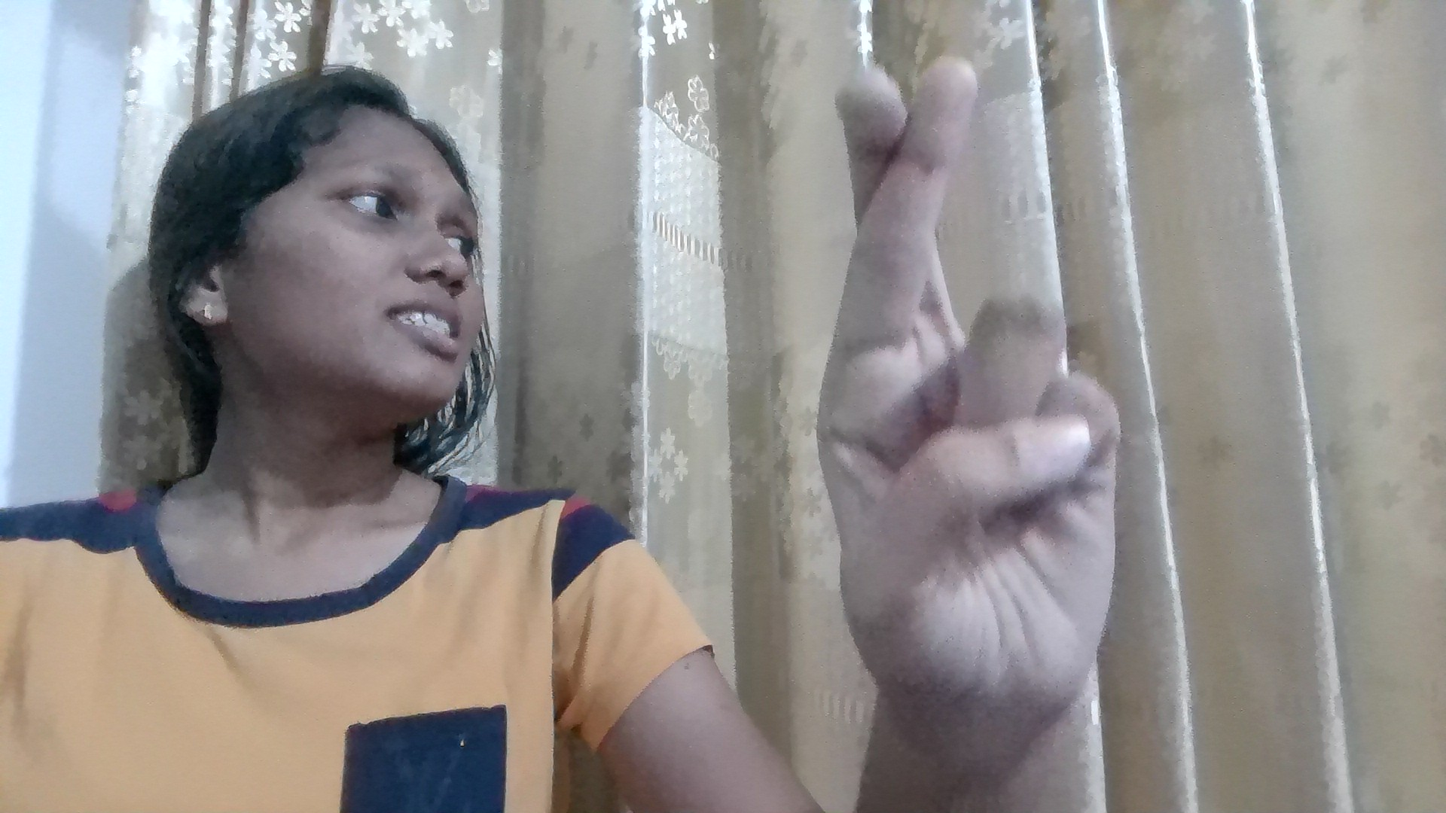Good_Luck: (789, 55, 1248, 737)
